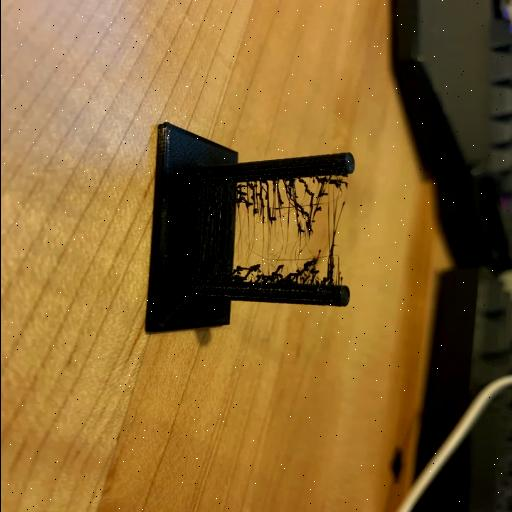stringing: (230, 181, 342, 287)
